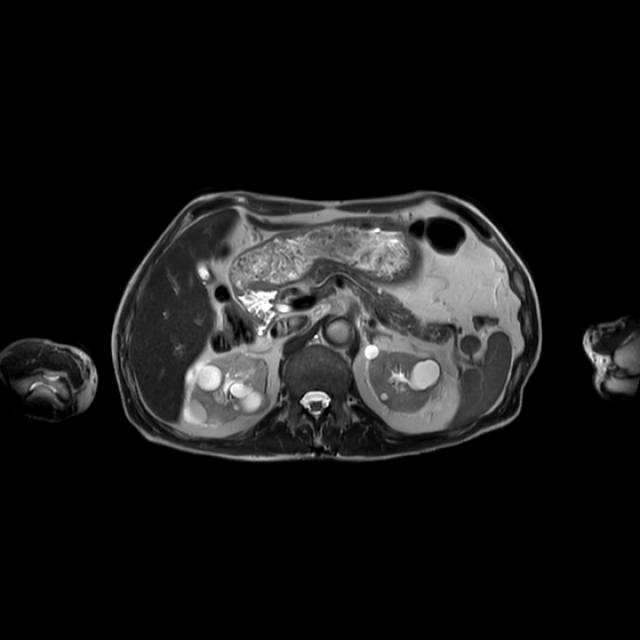sag: (184, 354, 272, 425)
sol: (366, 342, 442, 415)
